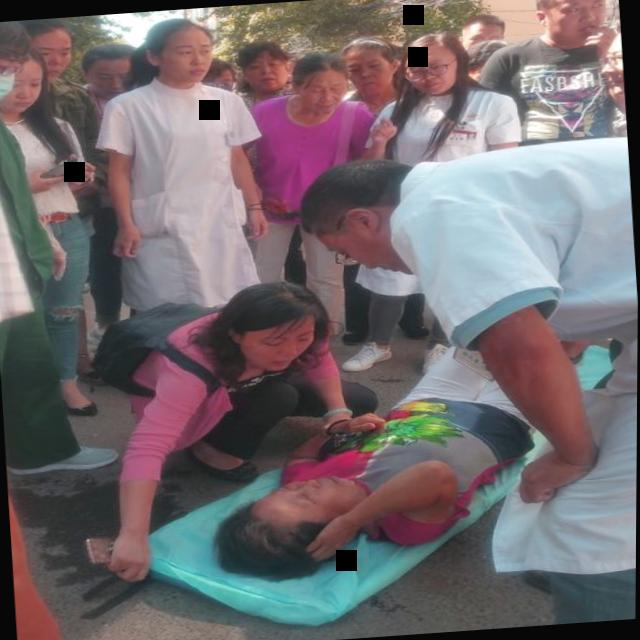Fall-Detected: (178, 334, 563, 615)
